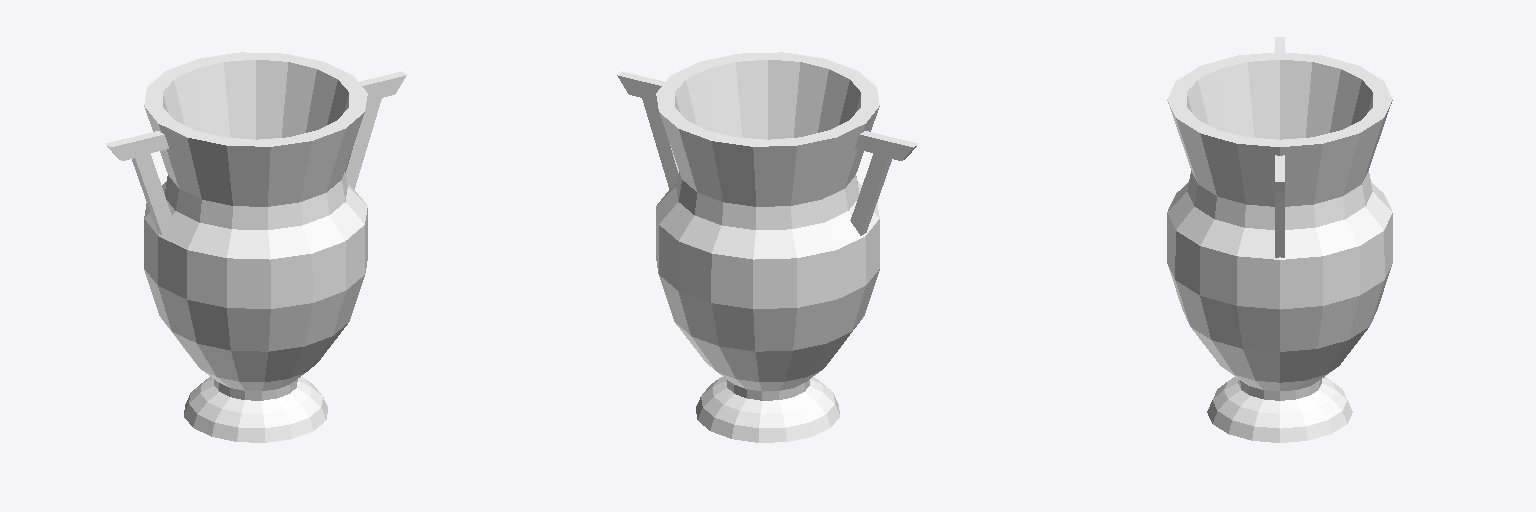
The picture shows the model from 3 angles: view 1: azimuth 30°, elevation 25°; view 2: azimuth 150°, elevation 25°; view 3: azimuth 270°, elevation 25°; orthographic projection.
Visible parts, largest first — view 1: vase; view 2: vase; view 3: vase.
Boxes of the visible parts, <box> form: vase: <box>106,52,406,442</box>; vase: <box>617,52,917,442</box>; vase: <box>1167,37,1392,442</box>.
Size of the model in its own units: 628 by 633 by 416.
Materials: 1 (1 with a texture image).